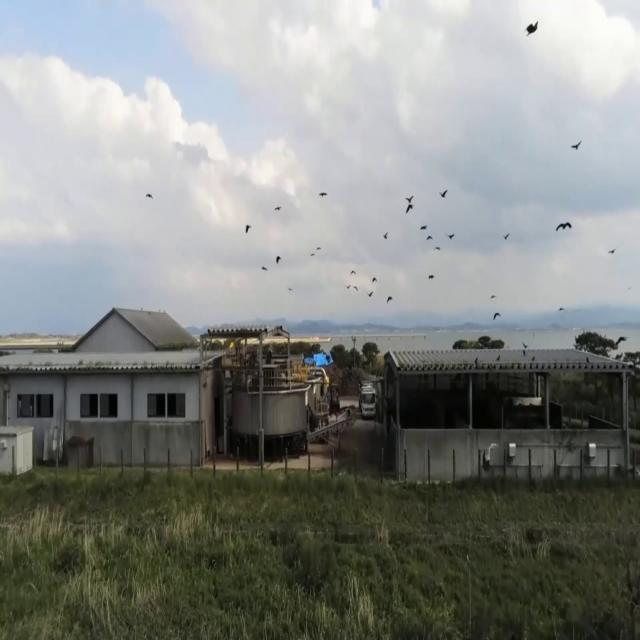bird: (524, 8, 540, 48), (555, 210, 572, 246), (570, 130, 582, 160), (438, 182, 448, 206), (318, 183, 328, 205), (145, 183, 153, 208), (446, 225, 455, 247), (608, 240, 617, 262), (492, 304, 500, 326)
